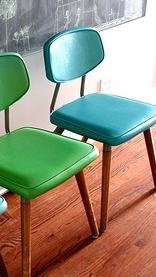obstacle: (44, 28, 155, 231)
